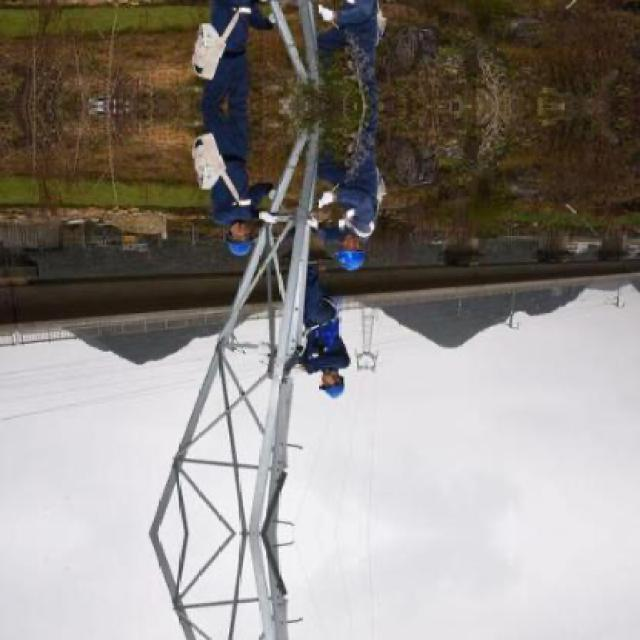con casco: (332, 228, 391, 272), (216, 213, 266, 256), (313, 366, 345, 412)
